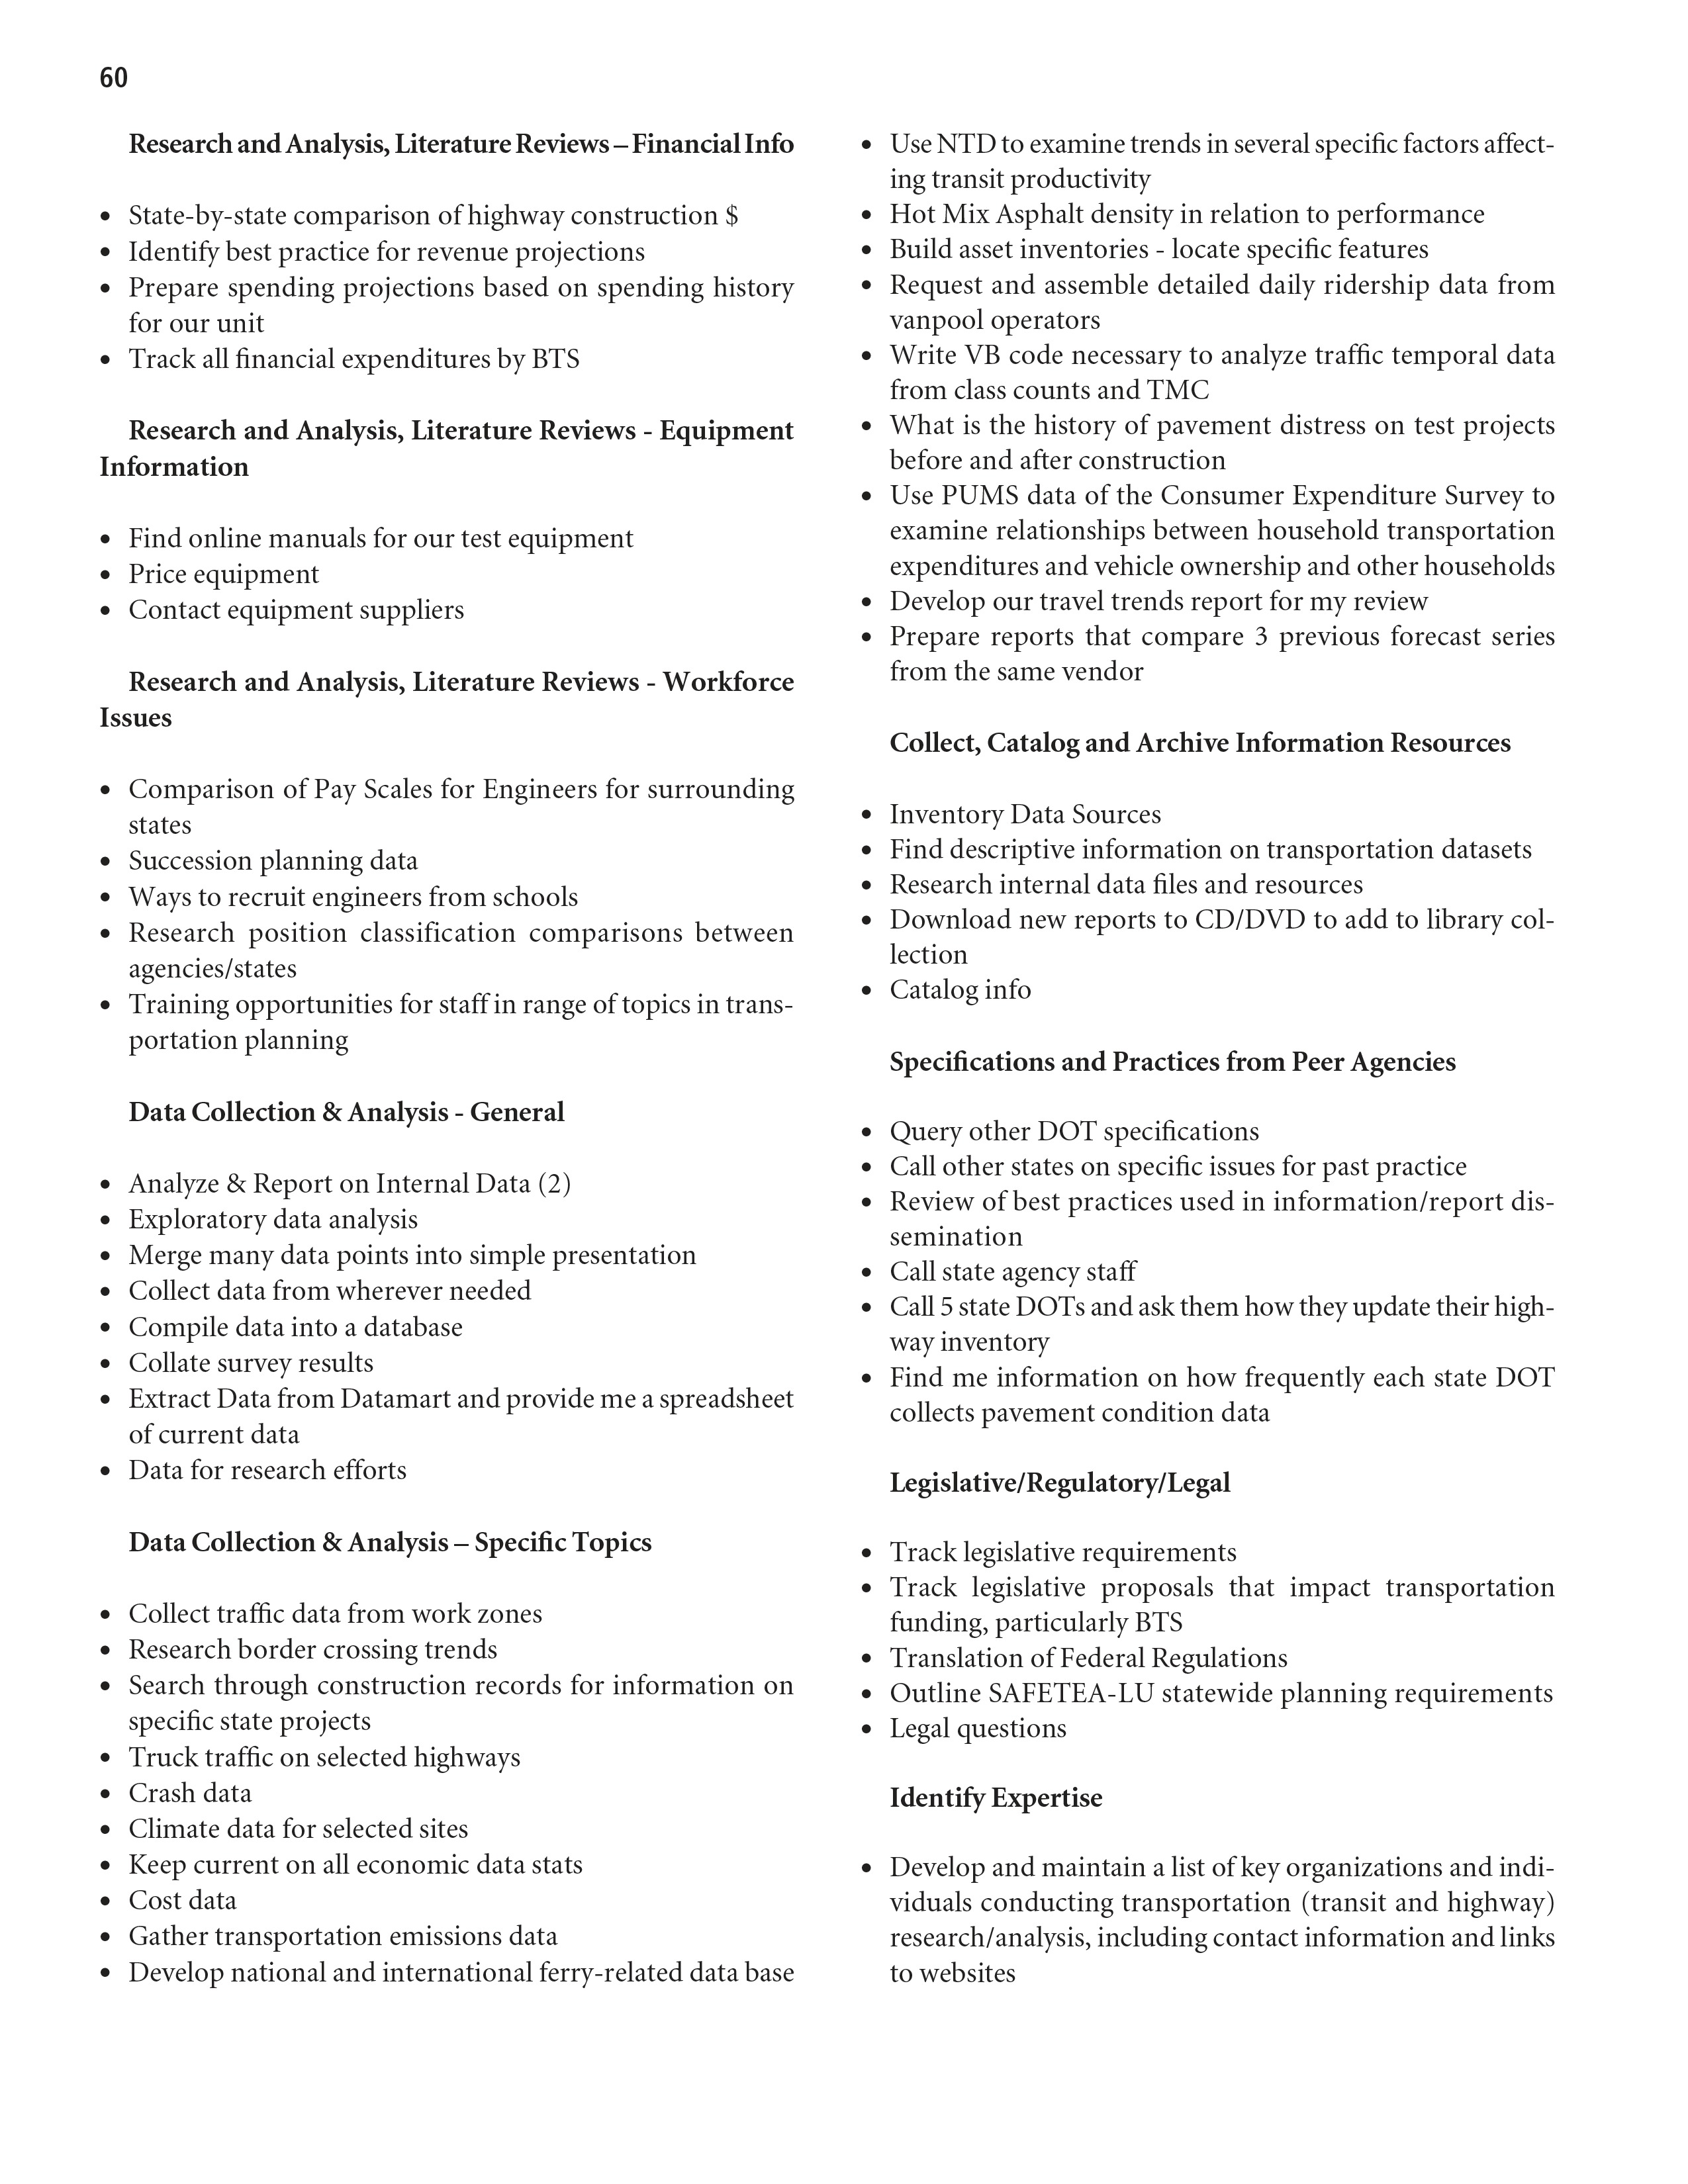list: (833, 119, 1596, 720), (80, 1587, 837, 2008), (83, 1174, 803, 1514), (853, 1117, 1543, 1457), (87, 762, 819, 1081), (846, 792, 1557, 1032), (856, 1526, 1560, 1760), (87, 195, 816, 399), (856, 1831, 1573, 1993), (76, 519, 651, 647)
section: (87, 420, 810, 502), (87, 667, 810, 746), (119, 115, 807, 168), (115, 1085, 578, 1149), (115, 1523, 688, 1572), (888, 1051, 1491, 1097), (899, 734, 1523, 776), (883, 1454, 1259, 1517), (872, 1782, 1129, 1813)
